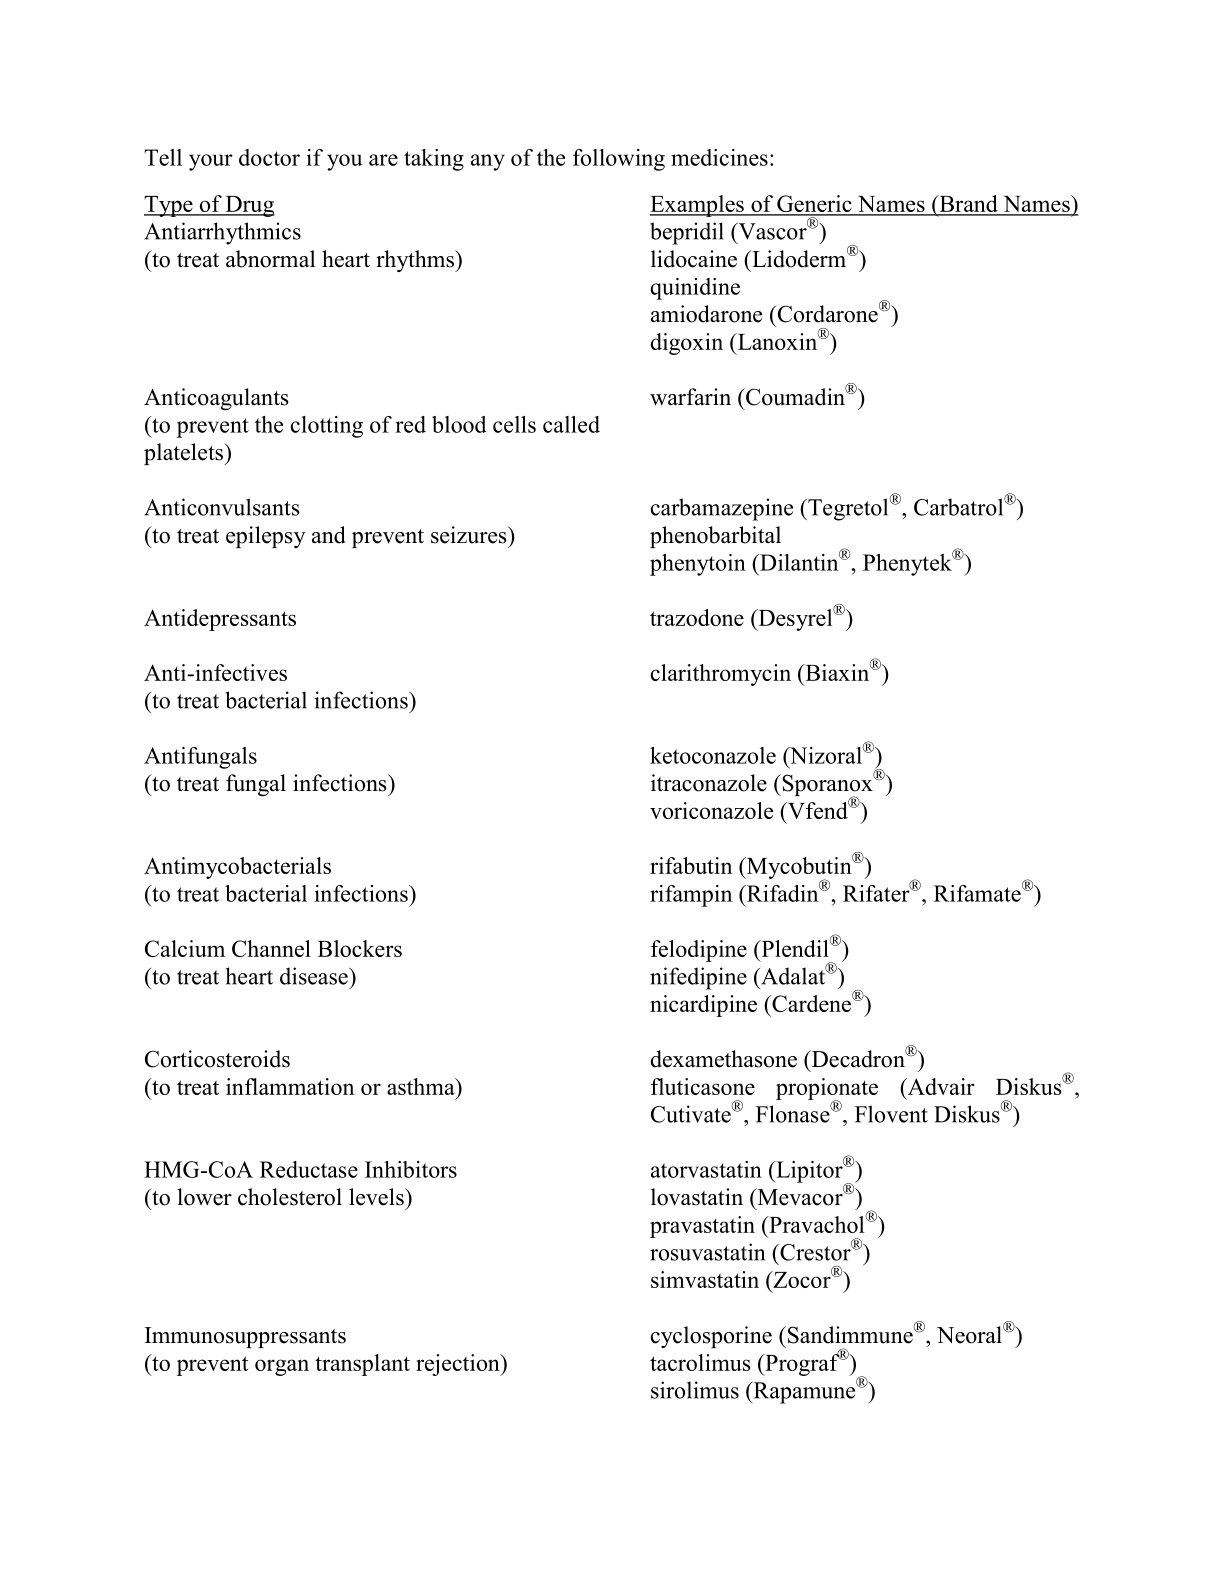nolines: (134, 193, 1083, 1404)
